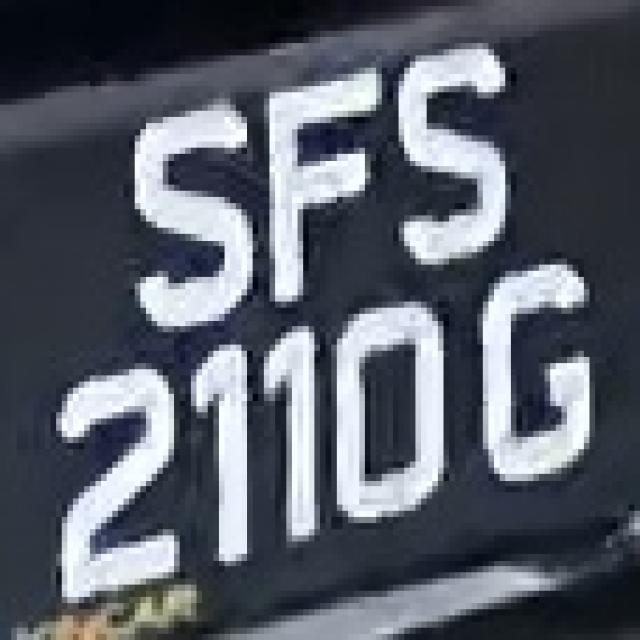0: (331, 290, 449, 536)
1: (174, 314, 258, 578), (258, 320, 337, 578)
2: (34, 344, 180, 628)
F: (247, 61, 376, 308)
G: (443, 258, 612, 492)
S: (107, 98, 258, 344), (387, 31, 528, 289)
